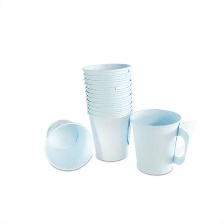paper_cup: (77, 57, 137, 166), (124, 103, 194, 178), (39, 114, 97, 175)
